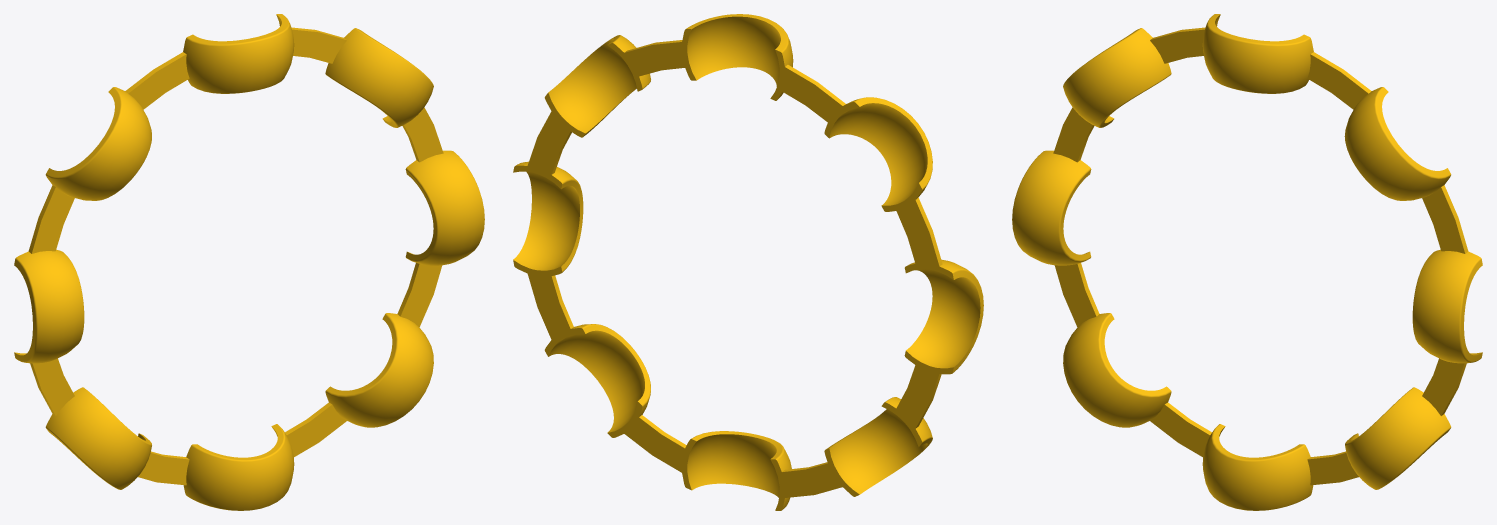
File: _60355K291_Steel_Ball_Bearing_16.gltf
The picture shows the model from 3 angles, left to right: view 1: azimuth 30°, elevation 25°; view 2: azimuth 150°, elevation 25°; view 3: azimuth 330°, elevation 25°; orthographic projection.
Parts seen in each view (by area): view 1: mesh52146, mesh52186, mesh52176, mesh52156, mesh52166, mesh52136, mesh52190, mesh52123, mesh52127, mesh52124, mesh52157, mesh52167 (+6 smaller); view 2: mesh52120, mesh52197, mesh52135, mesh52185, mesh52145, mesh52175, mesh52155, mesh52165, mesh52160, mesh52194, mesh52180, mesh52140 (+6 smaller); view 3: mesh52123, mesh52166, mesh52176, mesh52190, mesh52186, mesh52136, mesh52156, mesh52146, mesh52147, mesh52137, mesh52187, mesh52177 (+6 smaller).
Part boxes in pixels (x1,y1,x2,y2): mesh52146: (325,28,433,127); mesh52186: (46,387,151,489); mesh52176: (183,430,294,510); mesh52156: (407,150,484,265); mesh52166: (325,313,433,427); mesh52136: (183,23,294,93); mesh52190: (16,249,83,363); mesh52123: (46,87,151,200); mesh52127: (32,187,74,253); mesh52124: (128,54,189,109); mesh52157: (400,264,442,327); mesh52167: (287,404,346,457); mesh52120: (829,103,927,205); mesh52197: (906,269,980,368); mesh52135: (687,16,780,86); mesh52185: (829,409,927,494); mesh52145: (548,38,636,133); mesh52175: (687,434,779,497); mesh52155: (513,172,579,270); mesh52165: (548,330,644,432); mesh52160: (513,260,585,356); mesh52194: (881,183,953,279); mesh52180: (770,448,859,510); mesh52140: (607,29,696,91); mesh52123: (1063,28,1171,127); mesh52166: (1345,387,1450,489); mesh52176: (1202,430,1313,510); mesh52190: (1012,150,1089,265); mesh52186: (1063,313,1171,427); mesh52136: (1202,23,1313,93); mesh52156: (1413,249,1480,363); mesh52146: (1345,87,1450,200); mesh52147: (1422,187,1464,253); mesh52137: (1307,54,1368,109); mesh52187: (1054,264,1096,327); mesh52177: (1150,404,1209,457).
Size of the model in its own units: 0.0231 by 0.0231 by 0.00267.
